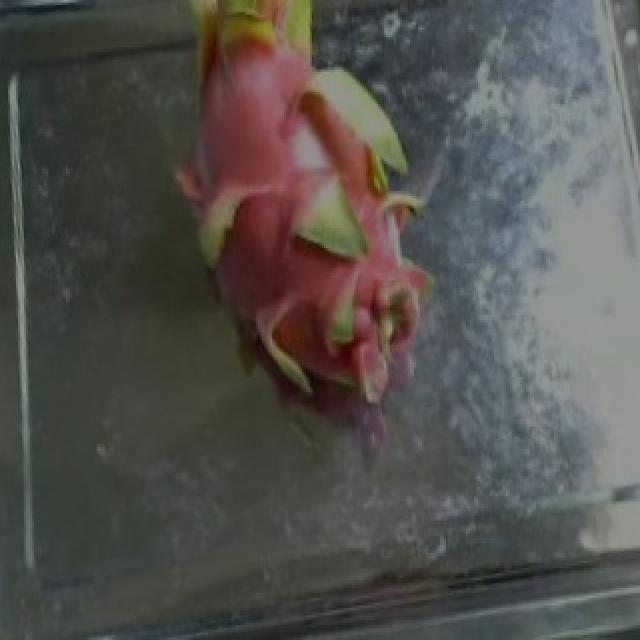fruit: (144, 0, 488, 422)
